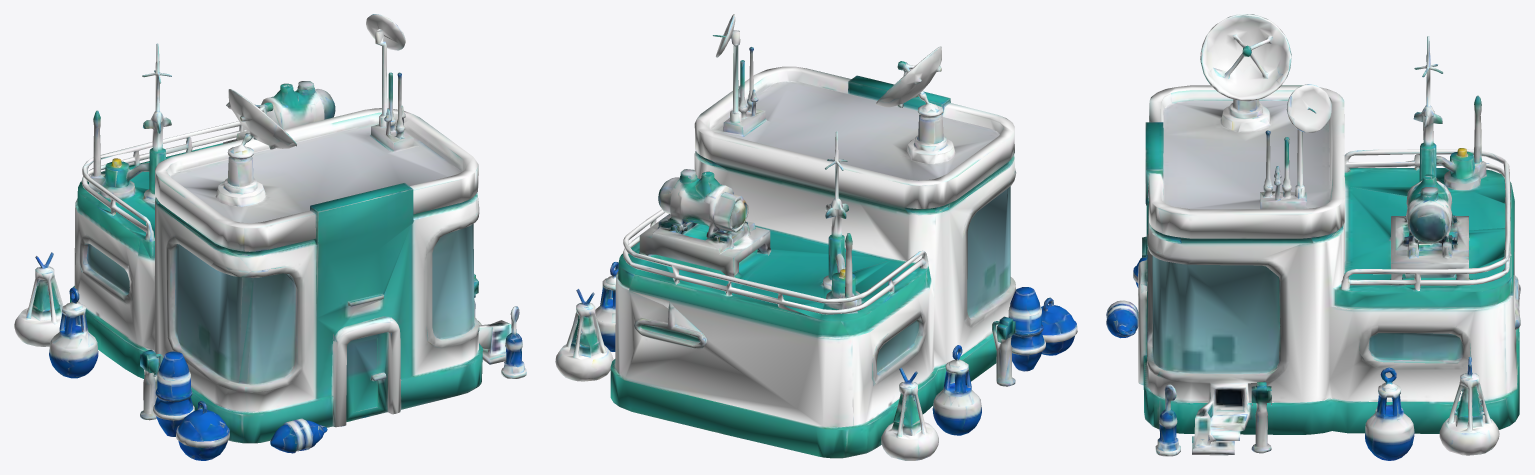
File: building_research.glb
3 renders of one model, left to right at view 1: azimuth 30°, elevation 25°; view 2: azimuth 150°, elevation 25°; view 3: azimuth 270°, elevation 25°, orthographic. The views are drawn at different scales.
Parts seen in each view (by area): view 1: Mesh_0; view 2: Mesh_0; view 3: Mesh_0.
Part boxes in pixels (x1=…): Mesh_0: x1=14, y1=14, x2=526, y2=460; Mesh_0: x1=555, y1=14, x2=1077, y2=460; Mesh_0: x1=1106, y1=14, x2=1520, y2=460.
Size of the model in its own units: 1.91 by 1.55 by 1.72.
1 material, 1 textured.
